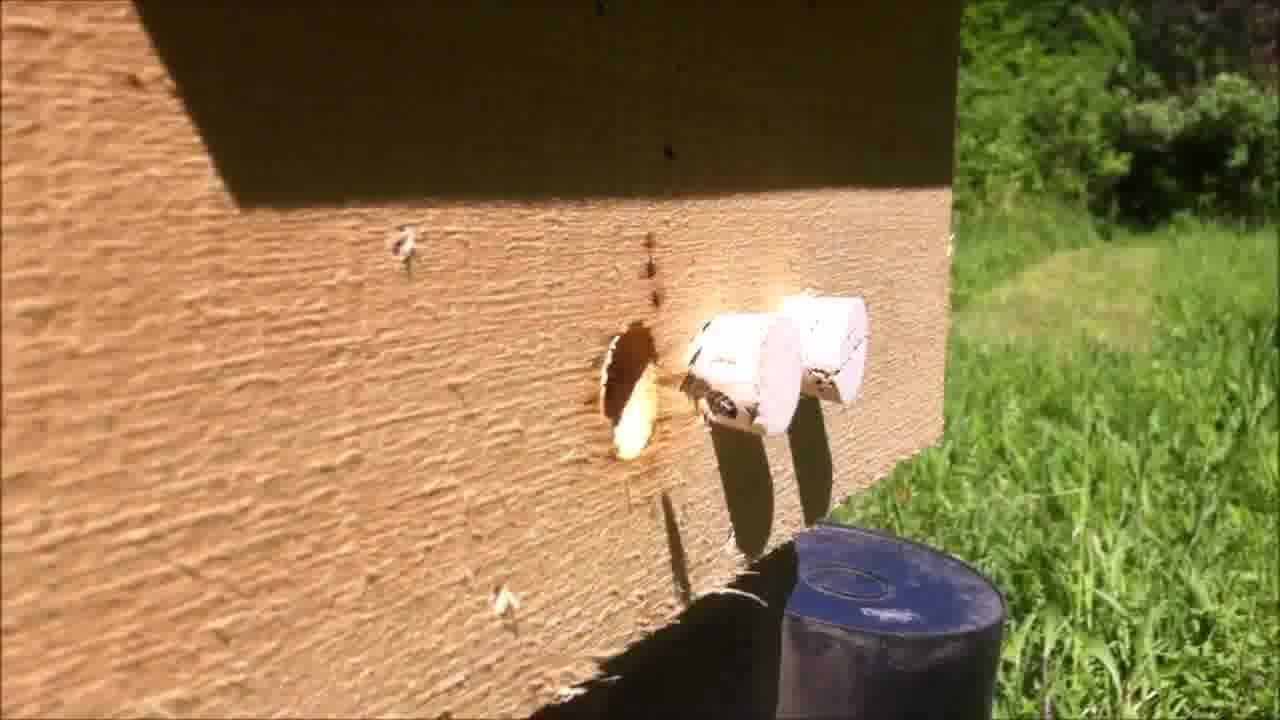pollen: (681, 372, 749, 429)
